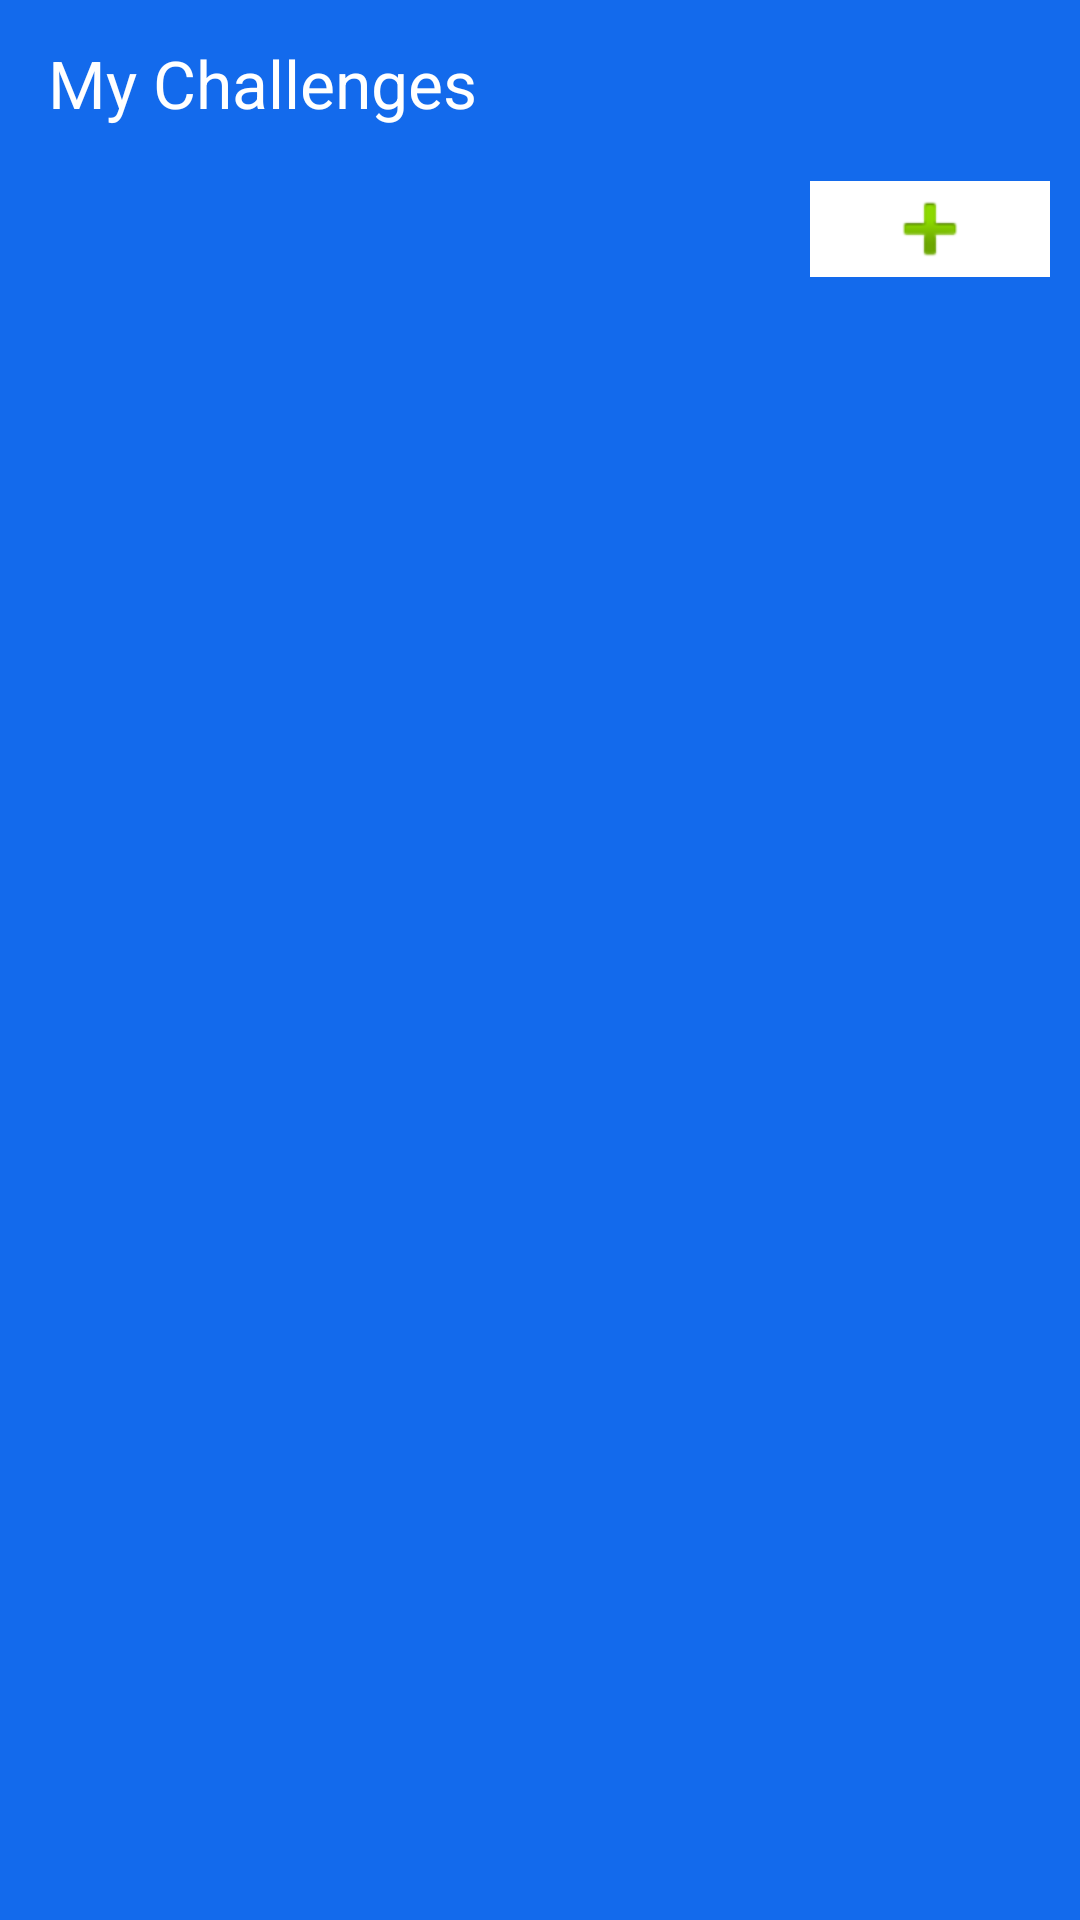

Point at icon controls on the screen. Image size 1080 × 1920, points as (x=x, y=y).
add: (x=930, y=229)
